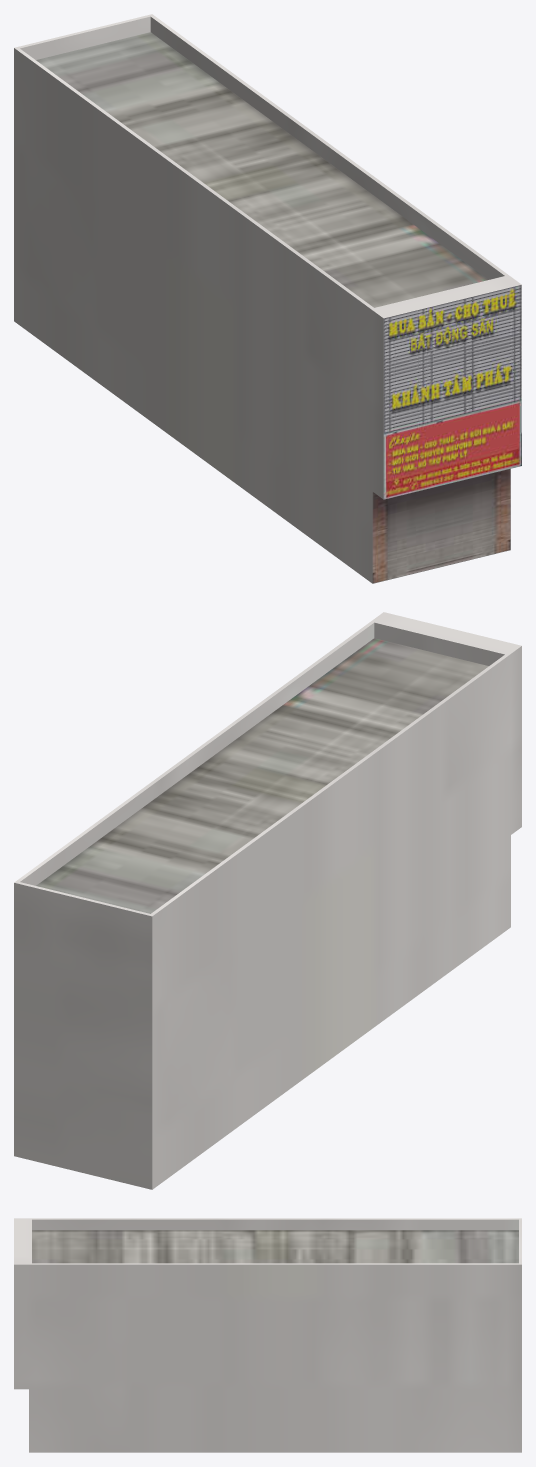
3 renders of one model, top to bottom at view 1: azimuth 30°, elevation 25°; view 2: azimuth 150°, elevation 25°; view 3: azimuth 270°, elevation 25°, orthographic. The views are drawn at different scales.
Visible parts, largest first — view 1: 5dad293a85034211c0dae08c.001; view 2: 5dad293a85034211c0dae08c.001; view 3: 5dad293a85034211c0dae08c.001.
Boxes of the visible parts, box(x1,y1,x2,y2) form: 5dad293a85034211c0dae08c.001: box(14, 14, 521, 583); 5dad293a85034211c0dae08c.001: box(14, 612, 521, 1189); 5dad293a85034211c0dae08c.001: box(14, 1218, 521, 1452).
Size of the model in its own units: 5.59 by 10.56 by 25.88.
1 material, 1 textured.
